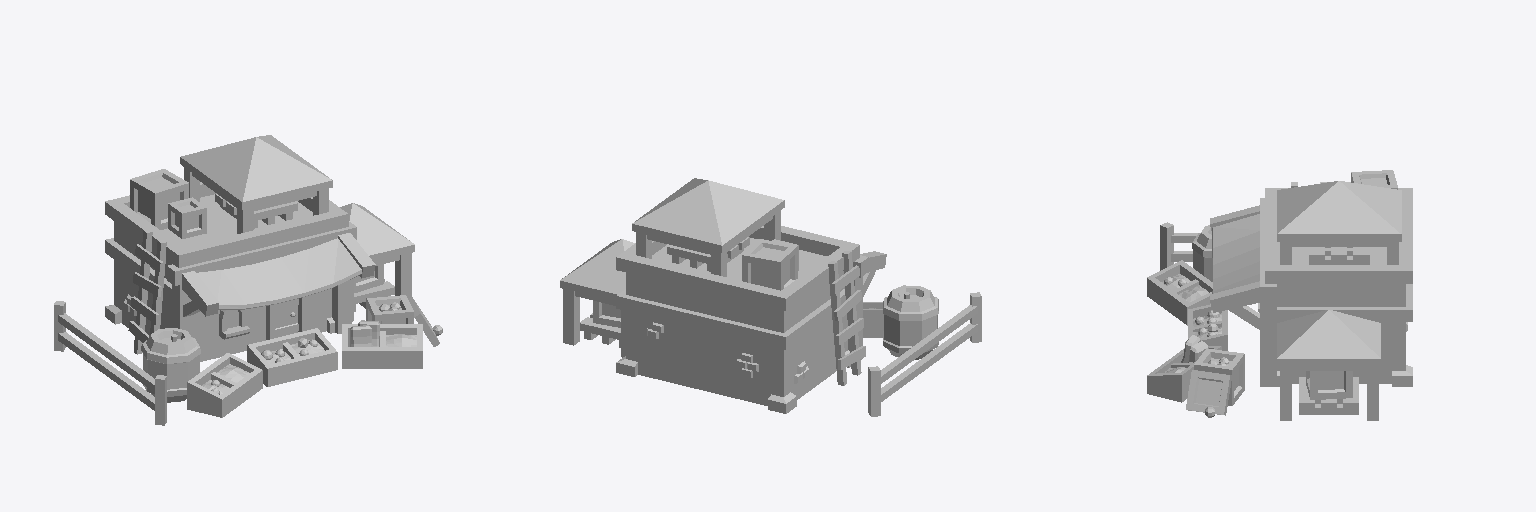
The model's file is building_market_red.obj.
The picture shows the model from 3 angles: view 1: azimuth 30°, elevation 25°; view 2: azimuth 150°, elevation 25°; view 3: azimuth 270°, elevation 25°; orthographic projection.
Visible parts, largest first — view 1: building_market_red; view 2: building_market_red; view 3: building_market_red.
Boxes of the visible parts, <box> form: building_market_red: <box>54,135,442,425</box>; building_market_red: <box>560,178,981,416</box>; building_market_red: <box>1147,170,1412,420</box>.
Size of the model in its own units: 1.8 by 0.9816 by 1.32.